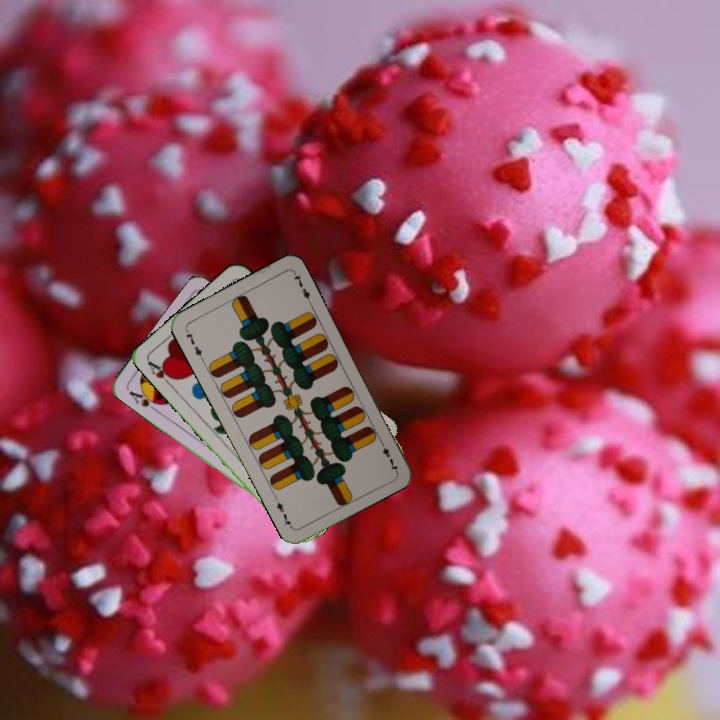E7: (375, 436, 401, 474), (181, 325, 206, 363)
HA: (143, 357, 178, 390)
SA: (125, 387, 163, 414)
